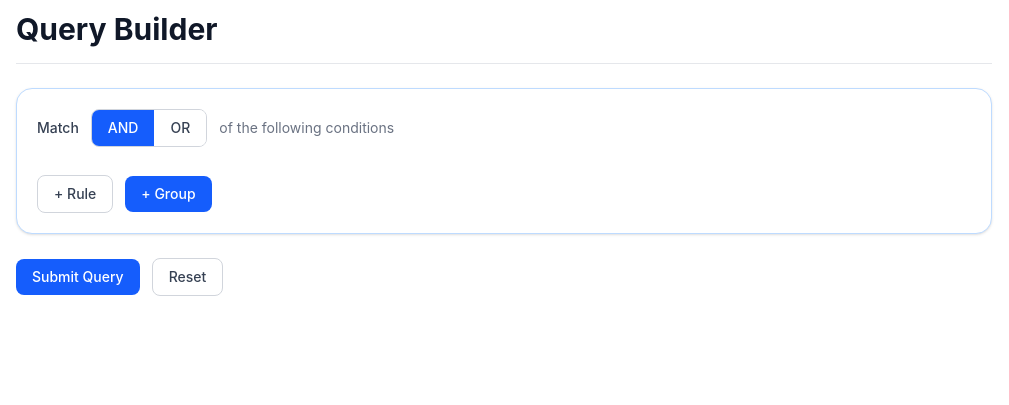
Test: QueryBuilder › adds a new rule when clicking + Rule
This screenshot has width=1009, height=405.
Click the button with test id "add-rule-depth-0". click: x=75, y=194
box: left=37, top=175, right=113, bottom=213
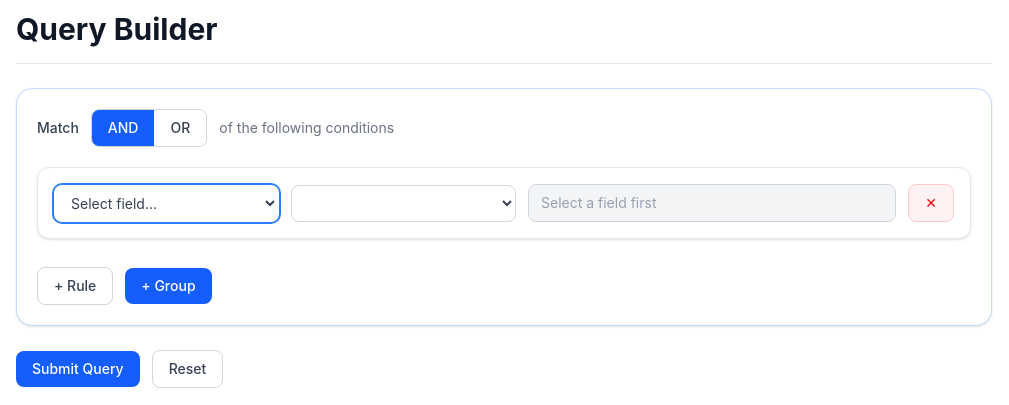
Check: the element with test id "rule-depth-0-index-0" is shown, box left=37, top=167, right=971, bottom=239
Check: the dropdown with test id "field-select-depth-0-index-0" is shown, box left=54, top=184, right=279, bottom=222
